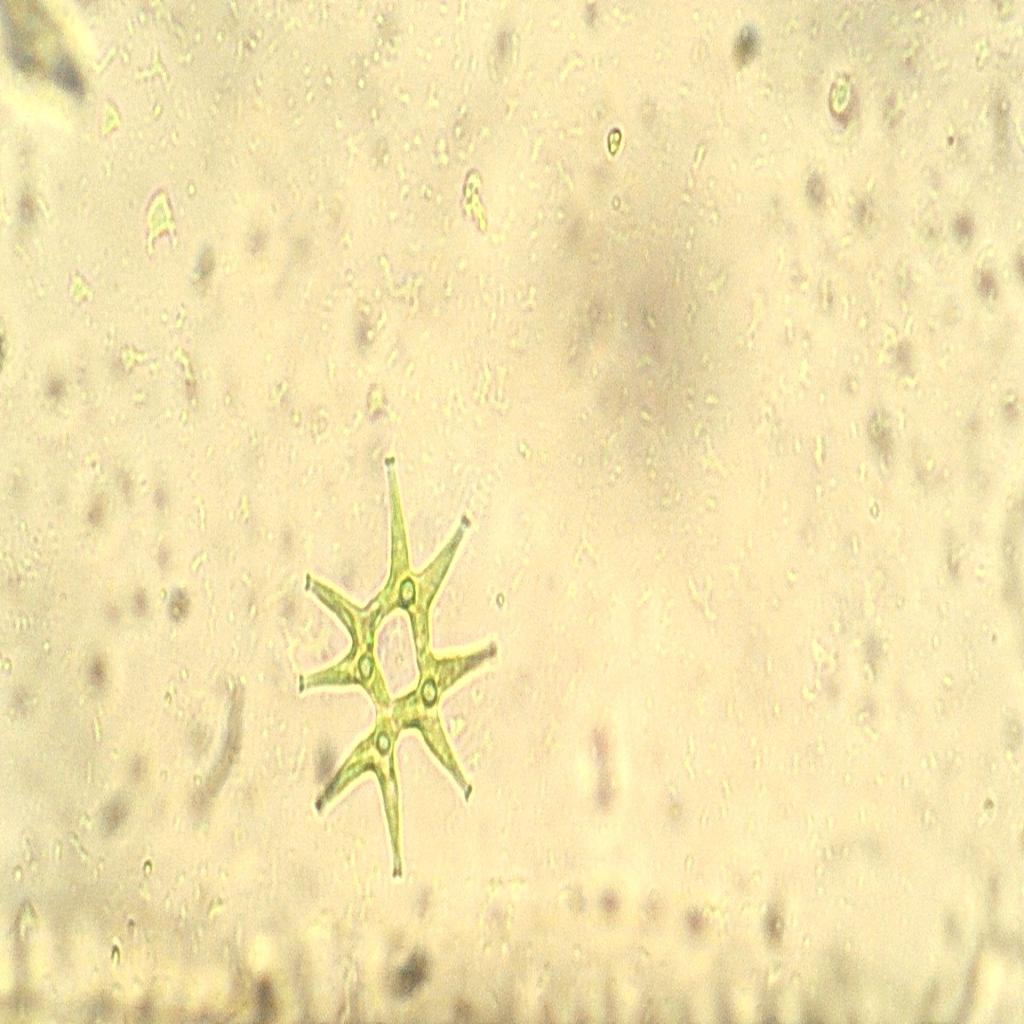Pediastrum_75FI: (284, 446, 514, 906)
